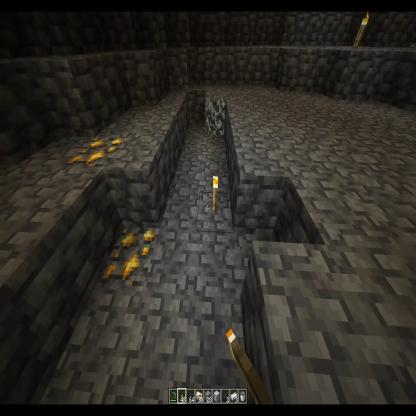gold ore: (101, 220, 158, 292), (68, 135, 125, 173)
